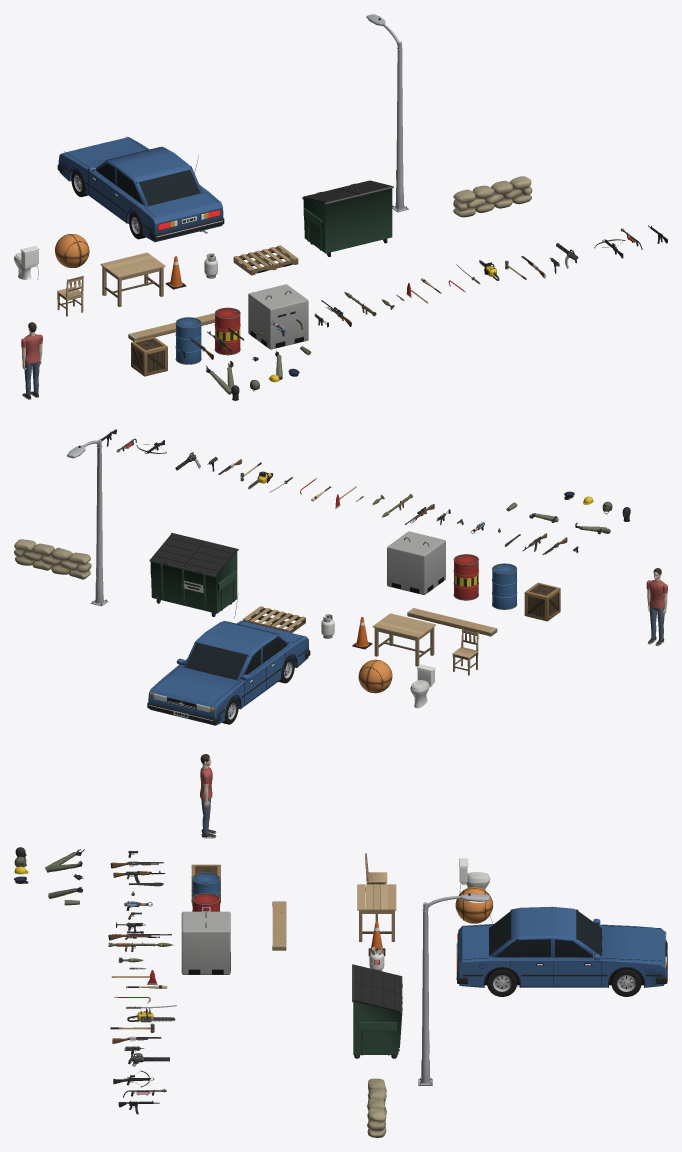
The model's file is models.glb.
3 views of the same model, one above another, from view 1: azimuth 30°, elevation 25°; view 2: azimuth 150°, elevation 25°; view 3: azimuth 270°, elevation 25° (orthographic). The views are drawn at different scales.
Parts seen in each view (by area): view 1: Car, Dumpster, Block, SandbagWall, Table, StreetLamp, Crate, Barrel, WoodenPallet, ExplosiveBarrel, Ball, Toilet (+2 smaller); view 2: Car, Dumpster, Block, SandbagWall, Table, StreetLamp, Crate, ExplosiveBarrel, Barrel, WoodenPallet, Ball, Plank (+2 smaller); view 3: Car, Dumpster, Block, StreetLamp, Table, SandbagWall, Ball, Plank, Barrel, Toilet.
Part boxes in pixels (x1,y1,x2,y2): Car: (57,136,224,242); Dumpster: (302,180,393,256); Block: (248,284,308,349); SandbagWall: (453,176,532,217); Table: (100,252,165,306); StreetLamp: (366,14,408,212); Crate: (131,336,167,376); Barrel: (175,317,201,364); WoodenPallet: (233,245,298,275); ExplosiveBarrel: (214,307,240,355); Ball: (55,234,89,267); Toilet: (14,245,39,279); Car: (147,594,310,725); Dumpster: (149,532,238,616); Block: (387,531,445,594); SandbagWall: (14,539,91,579); Table: (372,613,435,666); StreetLamp: (67,439,108,606); Crate: (524,582,560,621); ExplosiveBarrel: (453,554,478,600); Barrel: (492,563,517,609); WoodenPallet: (242,606,305,632); Ball: (358,659,392,693); Plank: (407,608,497,636); Car: (456,906,667,996); Dumpster: (352,964,402,1058); Block: (181,911,230,974); StreetLamp: (418,893,489,1085); Table: (357,884,396,941); SandbagWall: (367,1078,386,1137); Ball: (455,886,493,923); Plank: (272,901,286,950); Barrel: (192,872,220,905); Toilet: (459,858,490,893).
Size of the model in its own units: 15.49 by 4.32 by 13.41.
